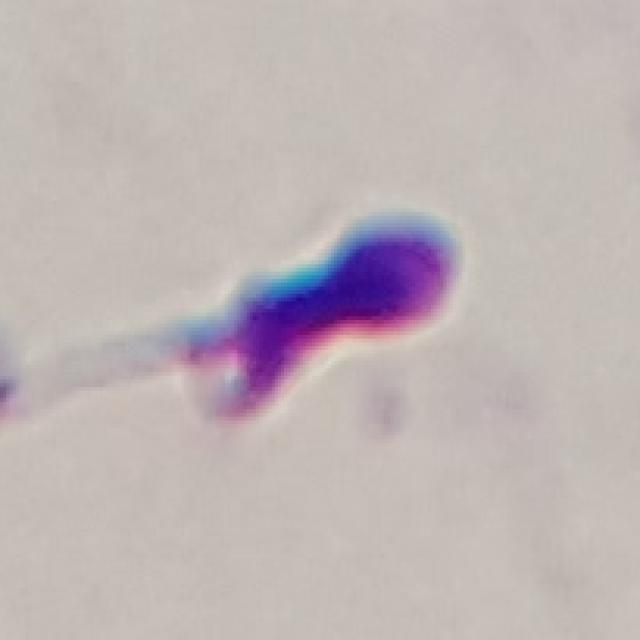abnormal sperm: (0, 184, 476, 475)
